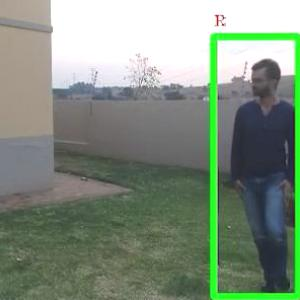follow: (219, 52, 286, 287)
